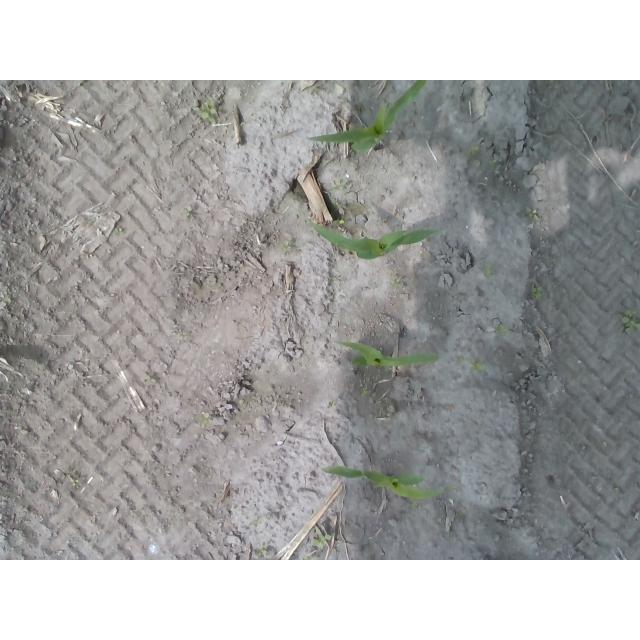Maize: (305, 81, 428, 154), (303, 216, 446, 261), (336, 339, 440, 376), (320, 468, 442, 498)
Weeds: (198, 101, 221, 123), (621, 311, 640, 333), (310, 532, 330, 548), (525, 208, 539, 221), (470, 360, 485, 372), (256, 546, 269, 559), (196, 412, 208, 425), (532, 285, 545, 295), (467, 147, 480, 157), (497, 325, 507, 336), (181, 207, 192, 216), (360, 387, 369, 398), (145, 376, 156, 385), (281, 242, 291, 251), (333, 219, 345, 226)
